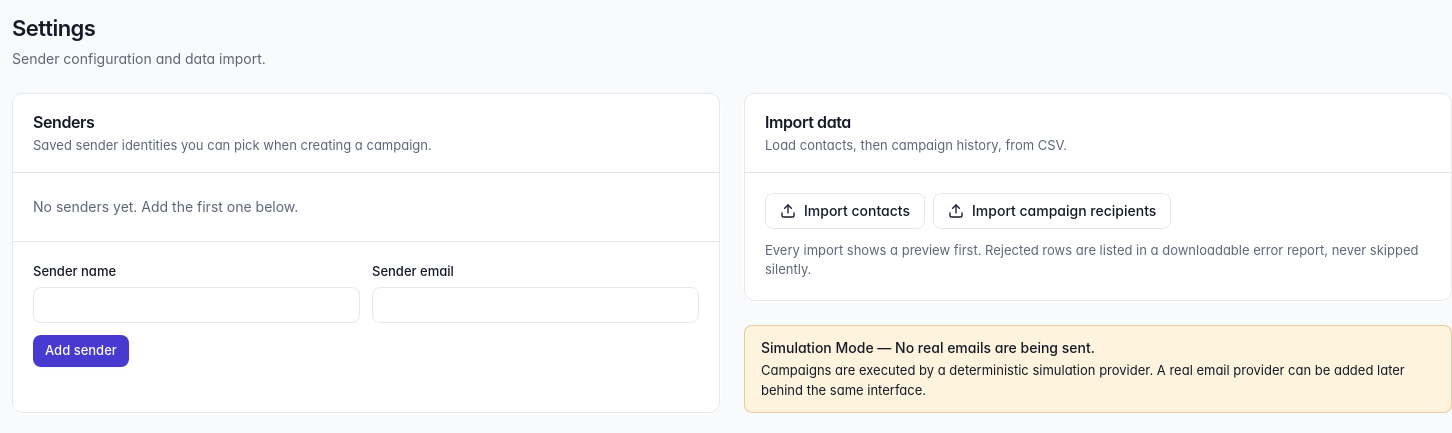
Test: Settings sender form › shows a server error
Check: the text "No senders yet. Add the first one below." is shown, box x1=33 y1=198 x2=298 y2=214
Type "T" into the field labelled "Sender name".
click(196, 305); type("T")  # box x1=33 y1=287 x2=360 y2=323
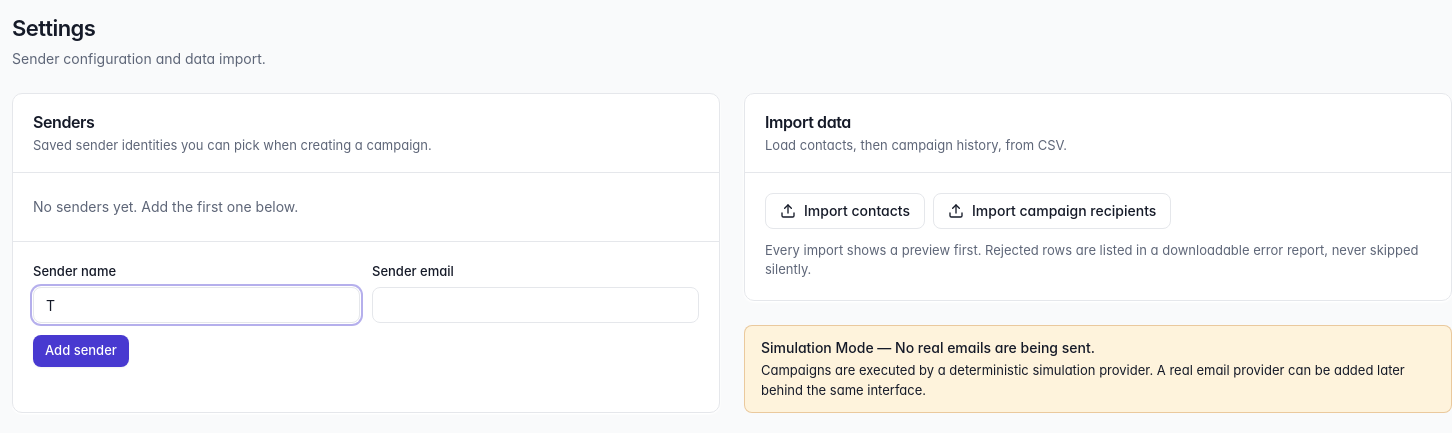
Type "t@example.com" into the field labelled "Sender email".
click(536, 305); type("t@example.com")  # box x1=372 y1=287 x2=699 y2=323
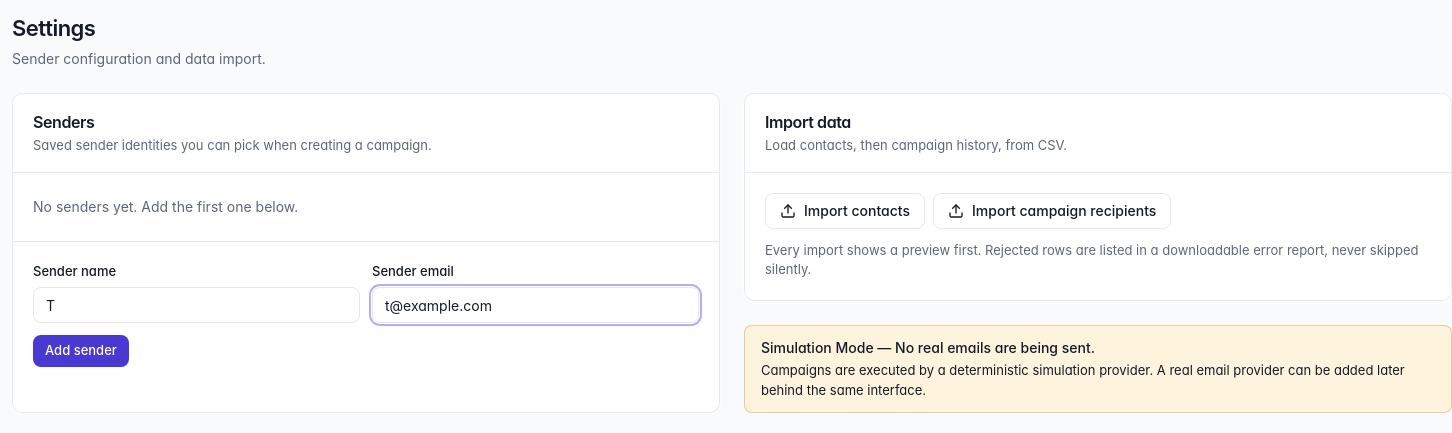
Click the button "Add sender".
click(81, 351)  # box x1=33 y1=335 x2=129 y2=367
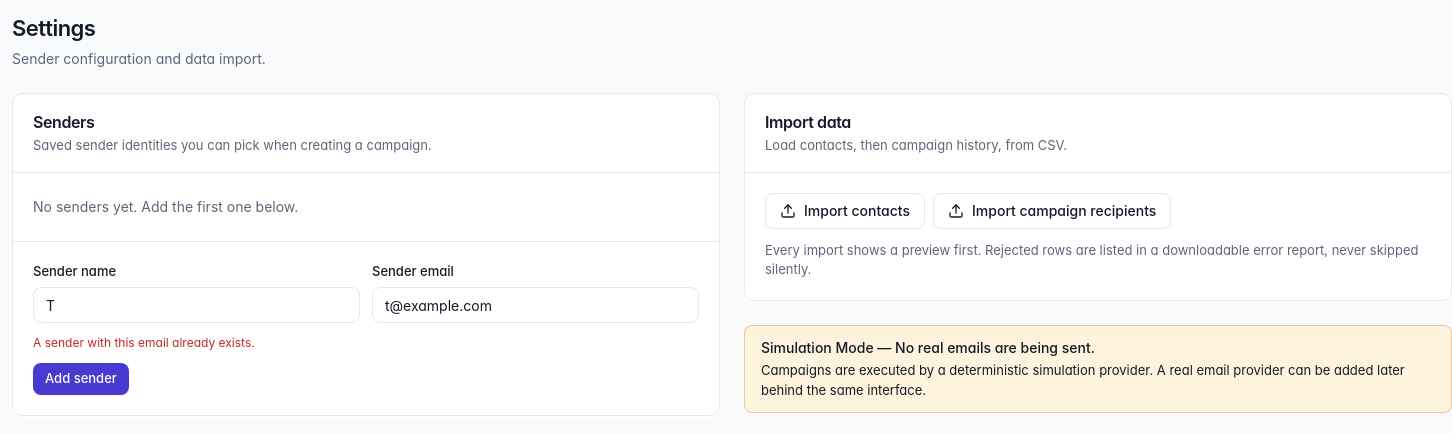
Check: the text "A sender with this email already exists." is shown, box x1=33 y1=335 x2=255 y2=350
